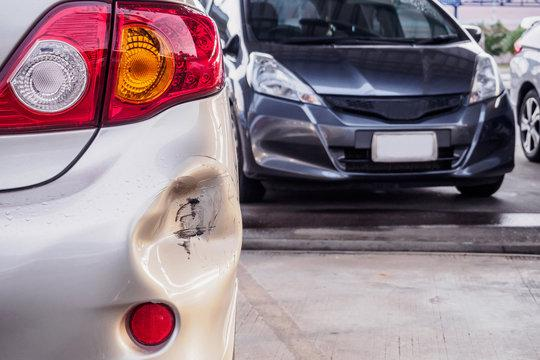rear-bumper-dent: (129, 154, 247, 310)
